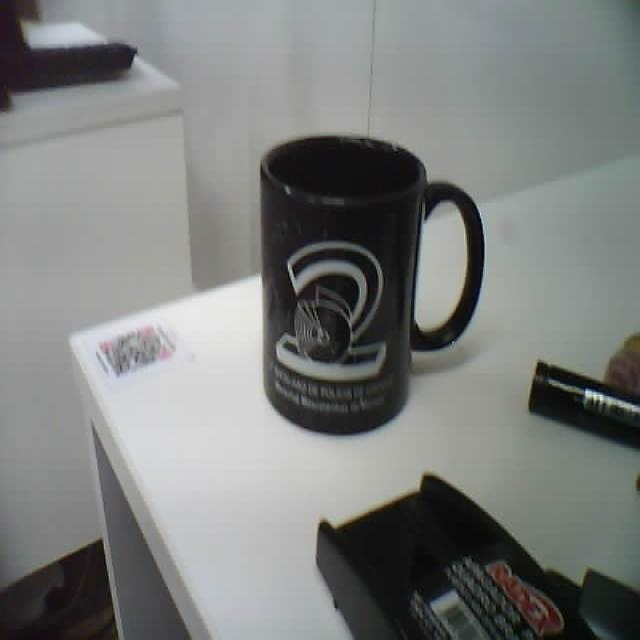caneca: (261, 136, 483, 433)
